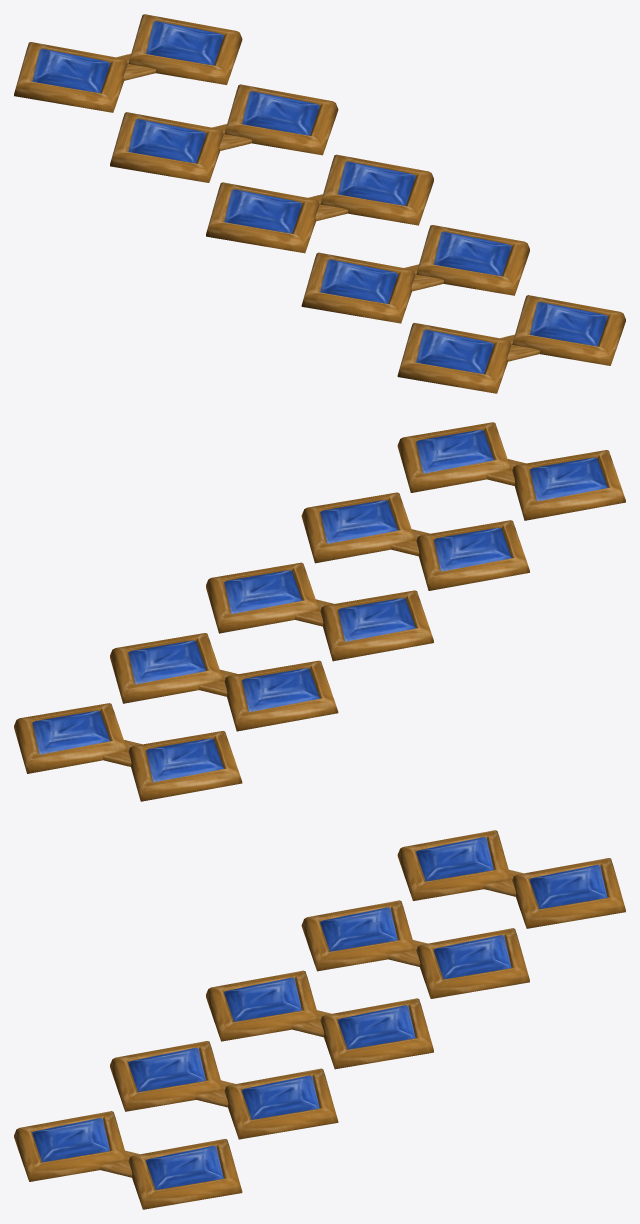
File: essenceGem_array.fbx
The picture shows the model from 3 angles, top to bottom: view 1: azimuth 30°, elevation 25°; view 2: azimuth 150°, elevation 25°; view 3: azimuth 330°, elevation 25°; orthographic projection.
Parts seen in each view (by area): view 1: Hedra001, Hedra009, Hedra005, Hedra007, Hedra003, Hedra008, Hedra002, Hedra004, Hedra010, Hedra006; view 2: Hedra003, Hedra005, Hedra007, Hedra009, Hedra001, Hedra004, Hedra002, Hedra008, Hedra010, Hedra006; view 3: Hedra009, Hedra007, Hedra001, Hedra003, Hedra005, Hedra002, Hedra004, Hedra006, Hedra010, Hedra008.
Part boxes in pixels (x1,y1,x2,y2): Hedra001: (116, 14, 242, 84); Hedra009: (500, 295, 625, 365); Hedra005: (308, 154, 433, 225); Hedra007: (404, 225, 529, 295); Hedra003: (212, 84, 338, 155); Hedra008: (301, 252, 415, 323); Hedra002: (14, 42, 127, 112); Hedra004: (110, 112, 223, 182); Hedra010: (397, 323, 511, 393); Hedra006: (206, 182, 319, 253); Hedra003: (110, 633, 238, 703); Hedra005: (206, 562, 333, 633); Hedra007: (301, 492, 429, 563); Hedra009: (397, 422, 525, 492); Hedra001: (14, 703, 141, 773); Hedra004: (224, 660, 338, 731); Hedra002: (128, 731, 242, 801); Hedra008: (416, 520, 529, 590); Hedra010: (512, 450, 625, 520); Hedra006: (320, 590, 433, 661); Hedra009: (100, 1139, 242, 1209); Hedra007: (196, 1068, 338, 1139); Hedra001: (483, 858, 625, 928); Hedra003: (387, 928, 529, 998); Hedra005: (292, 998, 433, 1069); Hedra002: (397, 830, 511, 900); Hedra004: (301, 900, 415, 971); Hedra006: (206, 970, 319, 1041); Hedra010: (14, 1111, 127, 1181); Hedra008: (110, 1041, 223, 1111).
Size of the model in its own units: 11.75 by 0.7347 by 41.89.
1 material, 1 textured.
